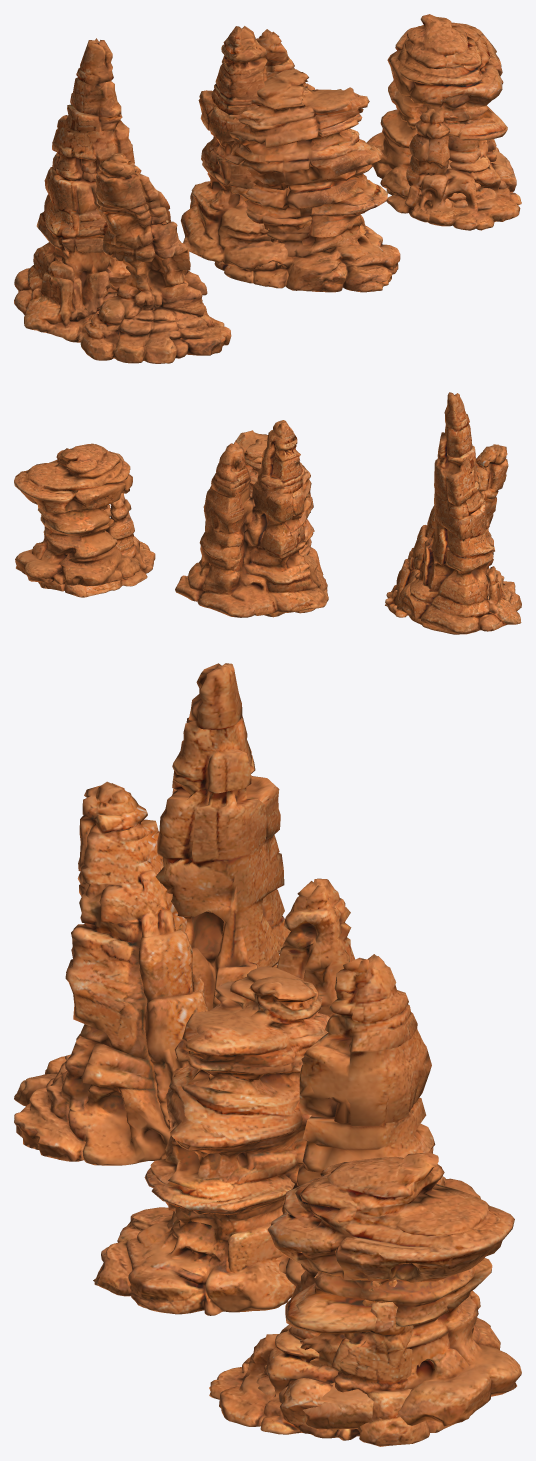
The model's file is rock_spires.glb.
3 views of the same model, one above another, from view 1: azimuth 30°, elevation 25°; view 2: azimuth 150°, elevation 25°; view 3: azimuth 270°, elevation 25° (orthographic). The views are drawn at different scales.
Parts seen in each view (by area): view 1: rock_spire_05, rock_spire_04, rock_spire_06, rock_spire_01, rock_spire_02, rock_spire_03; view 2: rock_spire_02, rock_spire_04, rock_spire_01, rock_spire_06, rock_spire_03, rock_spire_05; view 3: rock_spire_05, rock_spire_01, rock_spire_06, rock_spire_04, rock_spire_02, rock_spire_03.
Boxes of the visible parts, x1,y1,x2,y2 form: rock_spire_05: (214, 69, 400, 292); rock_spire_04: (14, 38, 134, 341); rock_spire_06: (63, 152, 231, 363); rock_spire_01: (366, 14, 514, 207); rock_spire_02: (180, 26, 314, 269); rock_spire_03: (386, 105, 521, 230); rock_spire_02: (175, 420, 328, 617); rock_spire_04: (396, 392, 521, 634); rock_spire_01: (14, 443, 140, 586); rock_spire_06: (385, 444, 521, 634); rock_spire_03: (38, 493, 155, 597); rock_spire_05: (235, 430, 327, 617); rock_spire_05: (93, 966, 330, 1315); rock_spire_01: (256, 1152, 521, 1429); rock_spire_06: (14, 781, 208, 1165); rock_spire_04: (155, 663, 290, 1010); rock_spire_02: (276, 878, 480, 1286); rock_spire_03: (209, 1264, 469, 1446).
Size of the model in its own units: 140 by 70 by 74.15.
1 material, 1 textured.
